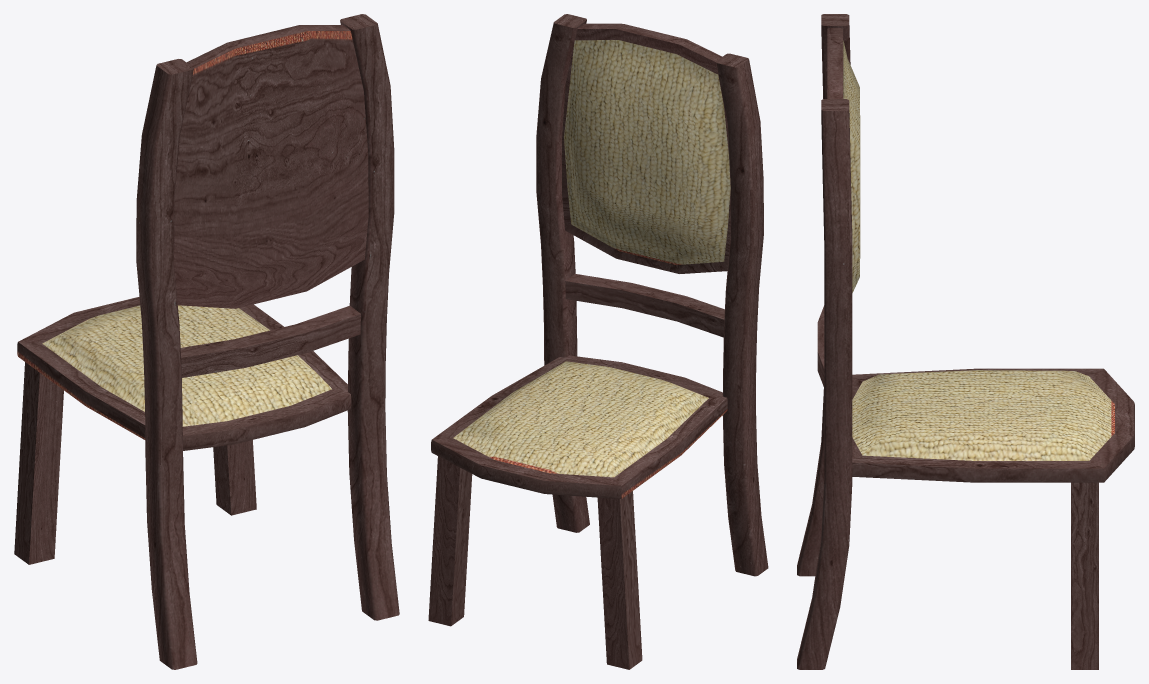
File: Chair_2.fbx
3 views of the same model, side by side, from view 1: azimuth 30°, elevation 25°; view 2: azimuth 150°, elevation 25°; view 3: azimuth 270°, elevation 25° (orthographic). The views are drawn at different scales.
Parts seen in each view (by area): view 1: Chair_2; view 2: Chair_2; view 3: Chair_2.
Boxes of the visible parts, bbox=[...] form: Chair_2: bbox=[14, 14, 399, 669]; Chair_2: bbox=[428, 14, 768, 669]; Chair_2: bbox=[797, 14, 1134, 669].
Bounding box in the file's own units: 0.1963 × 0.4513 × 0.2458.
Materials: 1 (1 with a texture image).
